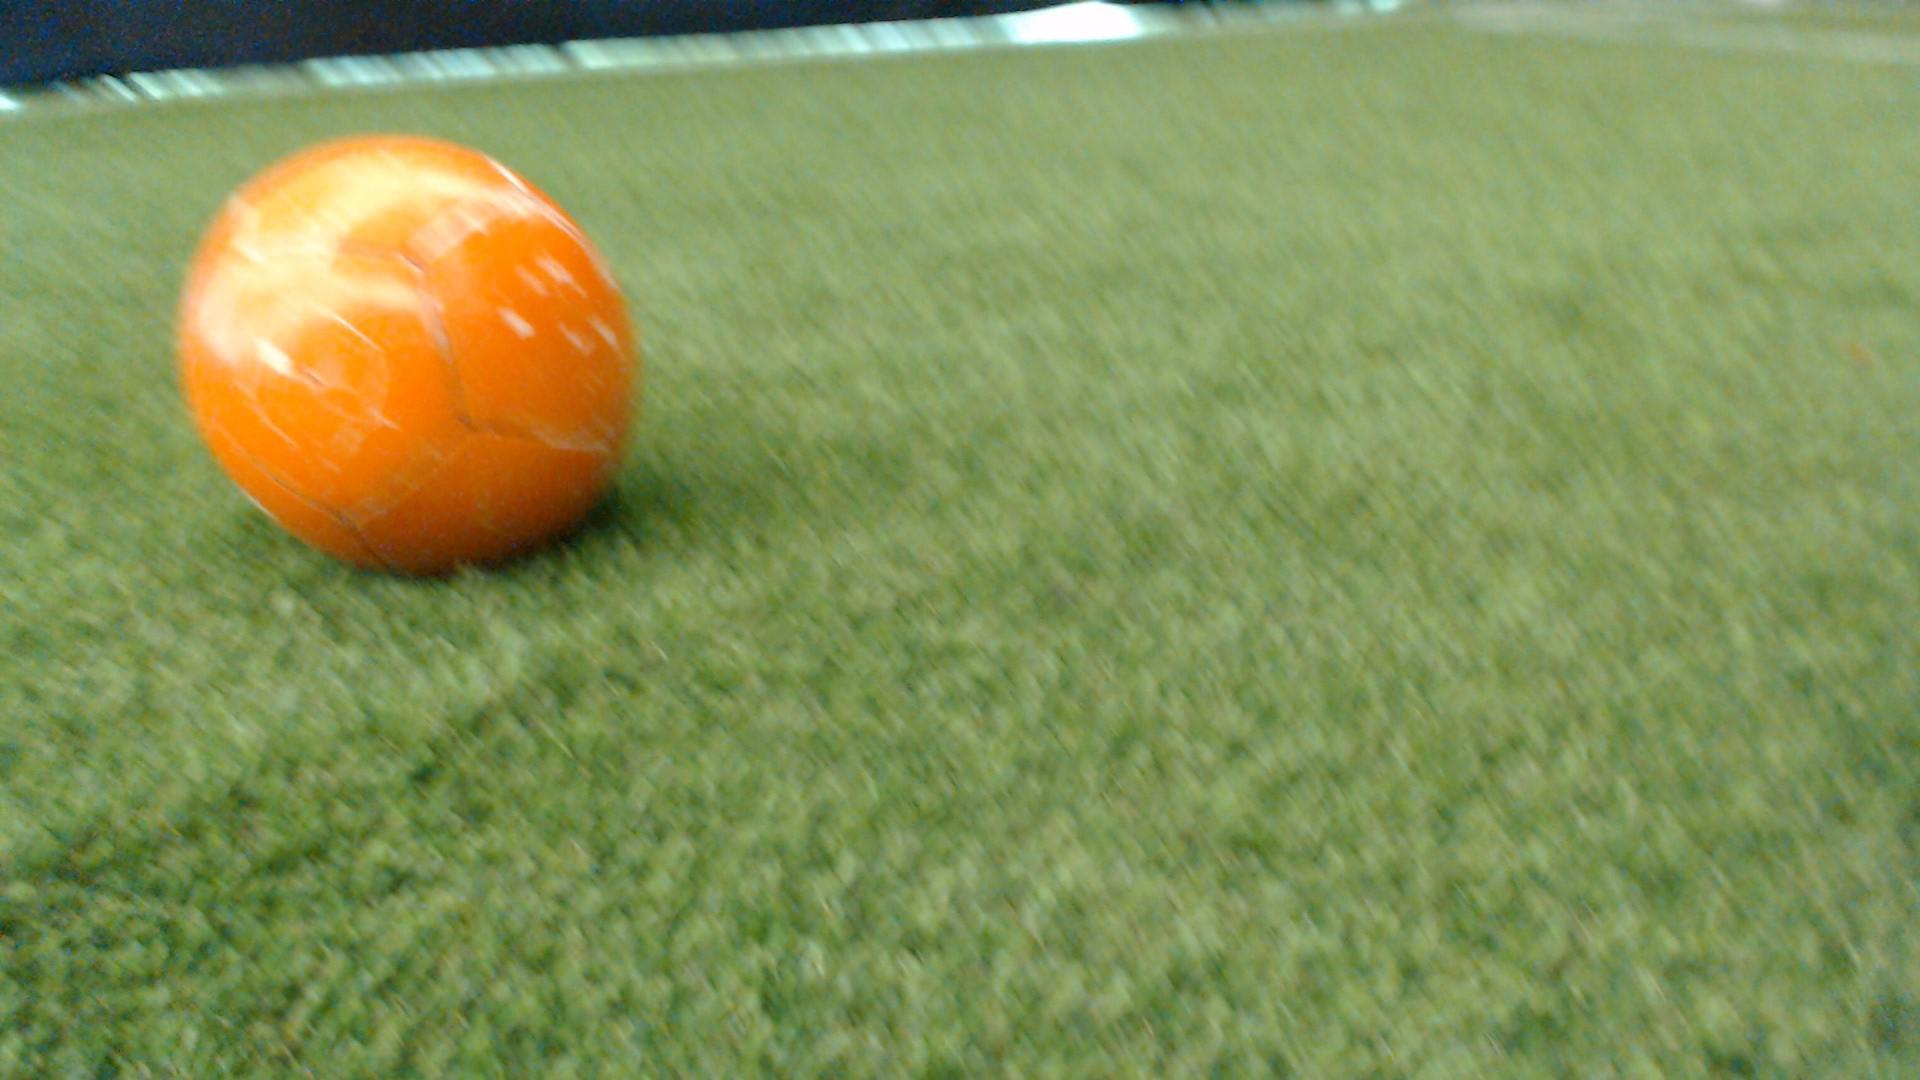bola: (135, 123, 705, 615)
